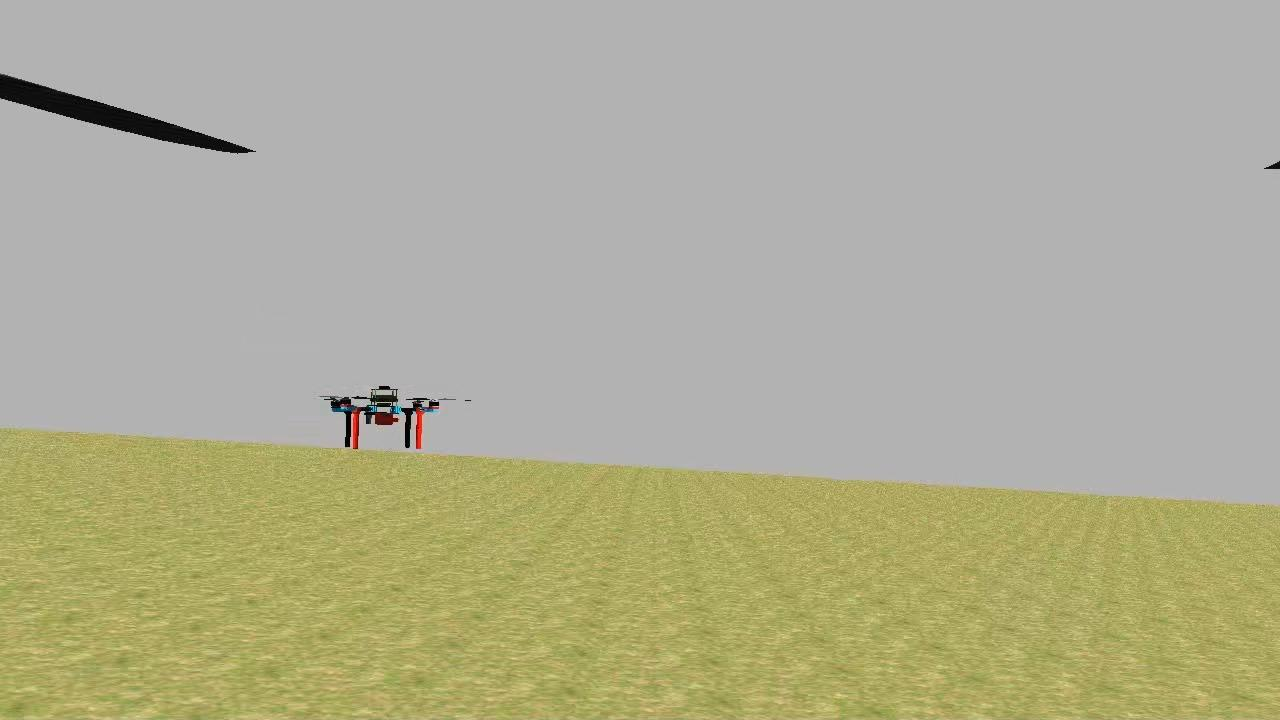UAV: (324, 382, 450, 452)
